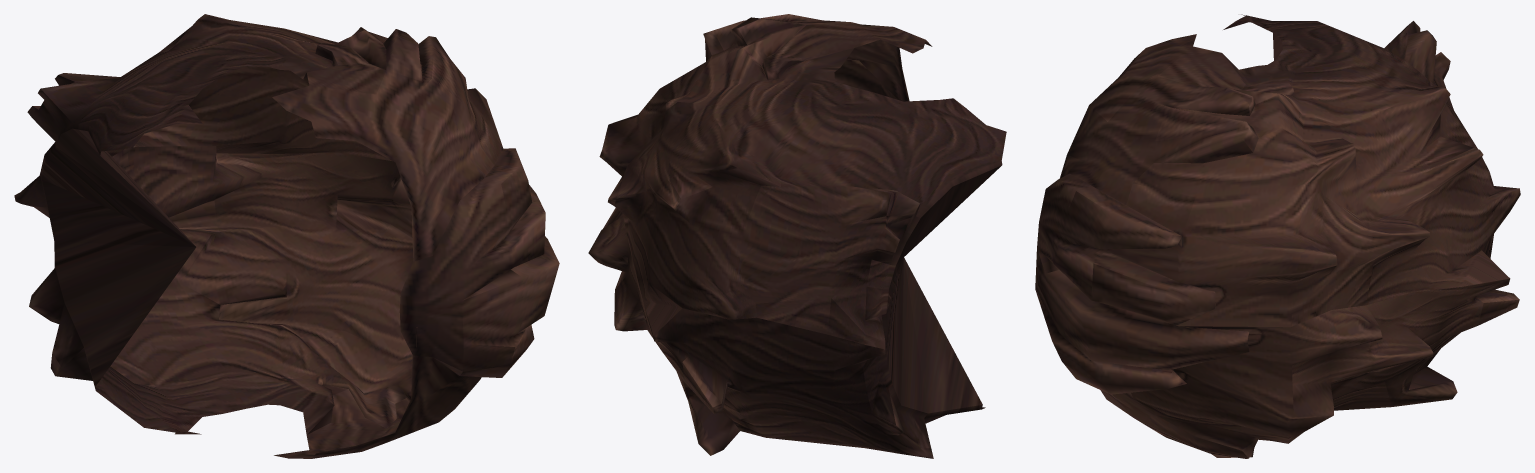
The model's file is Hat_ToddysWig_F.fbx.
3 renders of one model, left to right at view 1: azimuth 30°, elevation 25°; view 2: azimuth 150°, elevation 25°; view 3: azimuth 270°, elevation 25°, orthographic. The views are drawn at different scales.
Visible parts, largest first — view 1: Pogo; view 2: Pogo; view 3: Pogo.
Part boxes in pixels (x1=…): Pogo: x1=14, y1=14, x2=559, y2=458; Pogo: x1=588, y1=14, x2=1006, y2=458; Pogo: x1=1035, y1=14, x2=1520, y2=458.
Size of the model in its own units: 0.1377 by 0.1257 by 0.1506.
